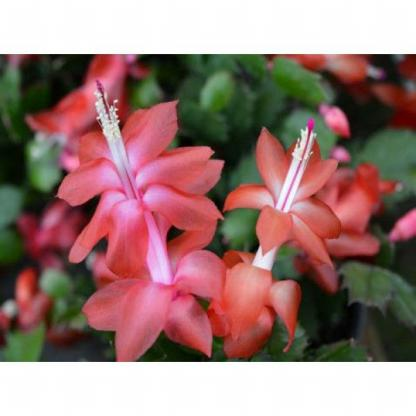Aglonema: (34, 84, 211, 327), (236, 40, 414, 252)
